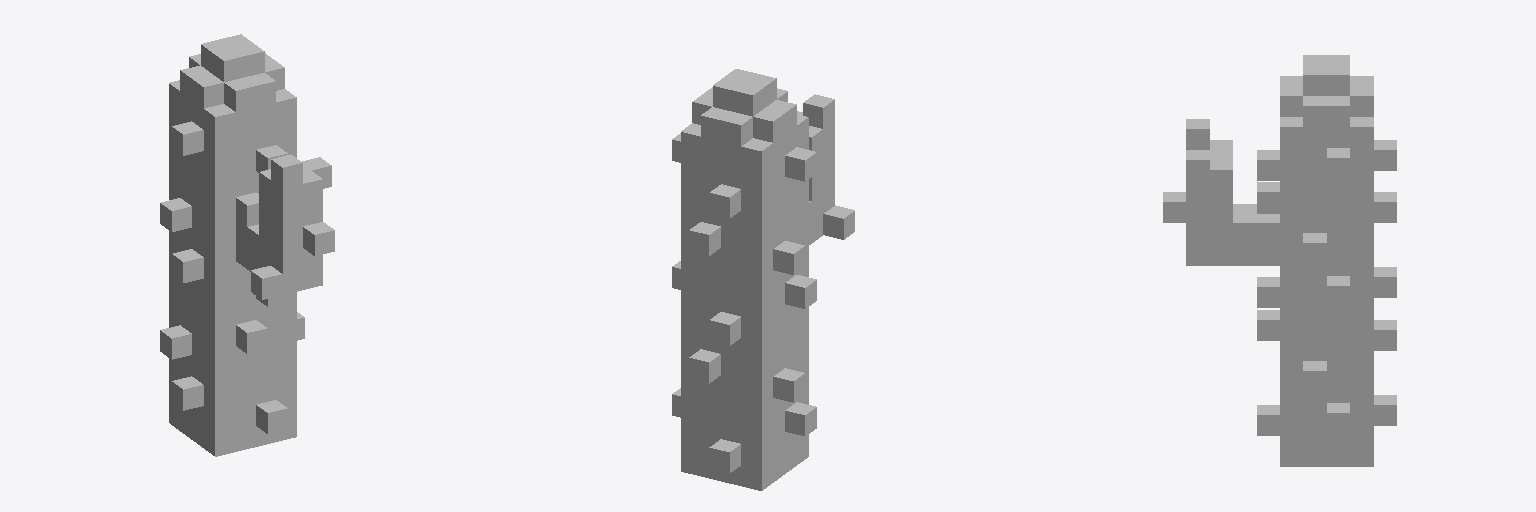
File: 1.1 kaktus.obj
The picture shows the model from 3 angles: view 1: azimuth 30°, elevation 25°; view 2: azimuth 150°, elevation 25°; view 3: azimuth 270°, elevation 25°; orthographic projection.
Parts seen in each view (by area): view 1: object 1; view 2: object 1; view 3: object 1.
Boxes of the visible parts, box(x1,y1,x2,y2) form: object 1: box(160, 34, 334, 456); object 1: box(672, 69, 854, 490); object 1: box(1163, 55, 1396, 466).
Size of the model in its own units: 0.6 by 1.8 by 1.